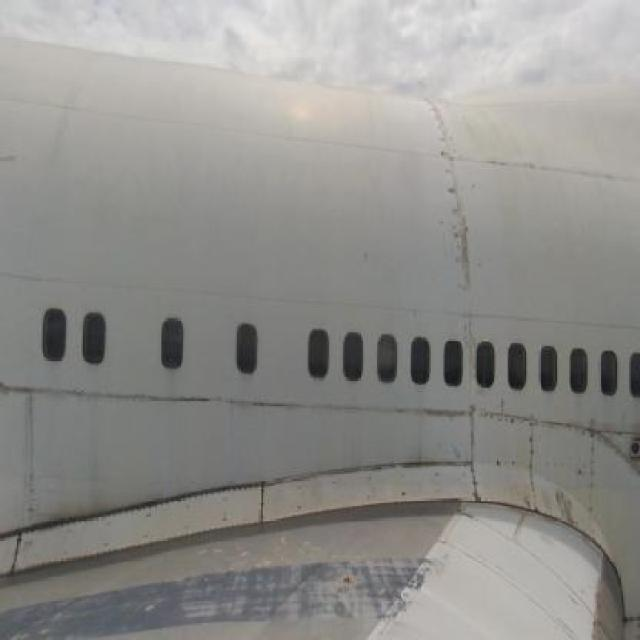Missing-Rivet: (416, 405, 610, 484)
Scartch: (425, 111, 480, 332), (544, 482, 584, 535)
